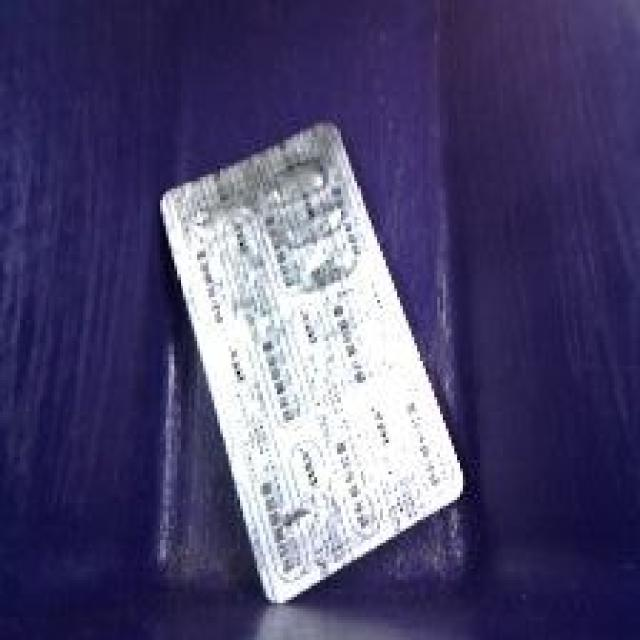med_plate: (142, 101, 484, 627)
